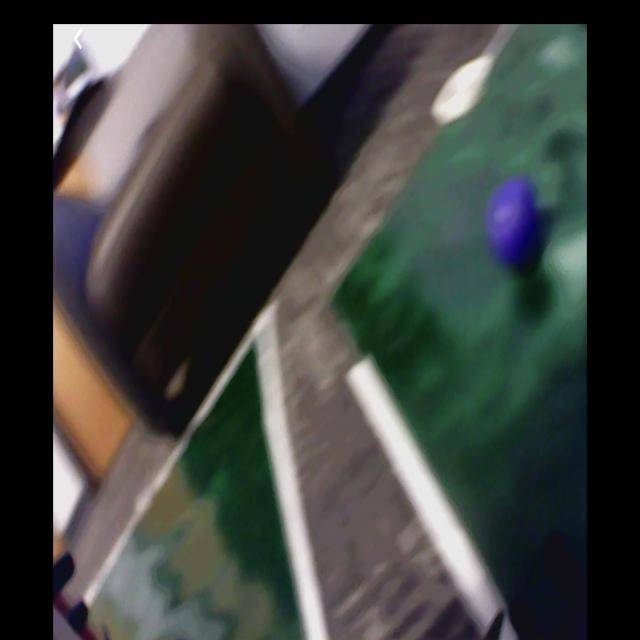ball: (487, 179, 544, 265)
